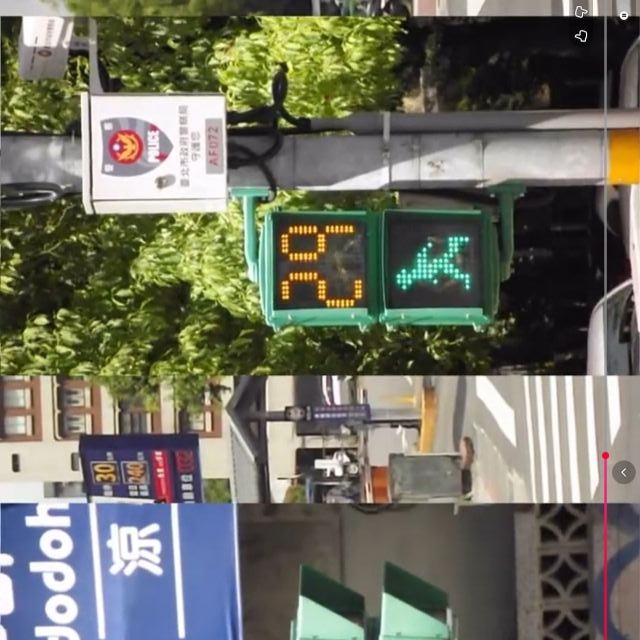green_light: (259, 211, 497, 325)
